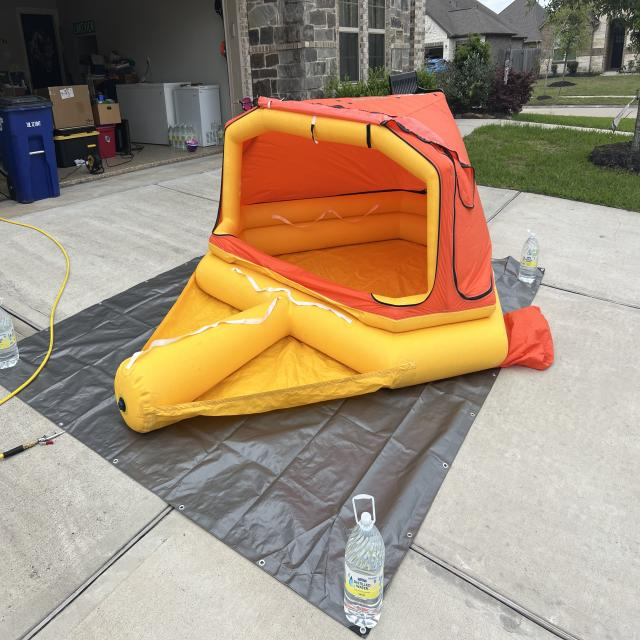Multi-person_life_raft: (114, 88, 554, 437)
